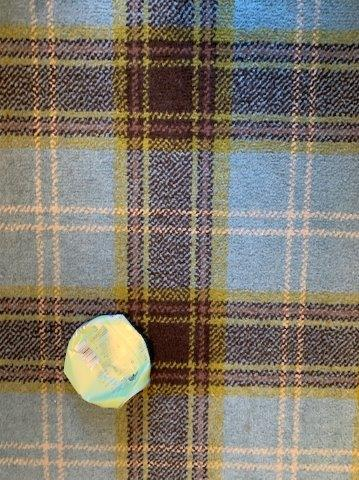kaleng: (64, 316, 150, 407)
